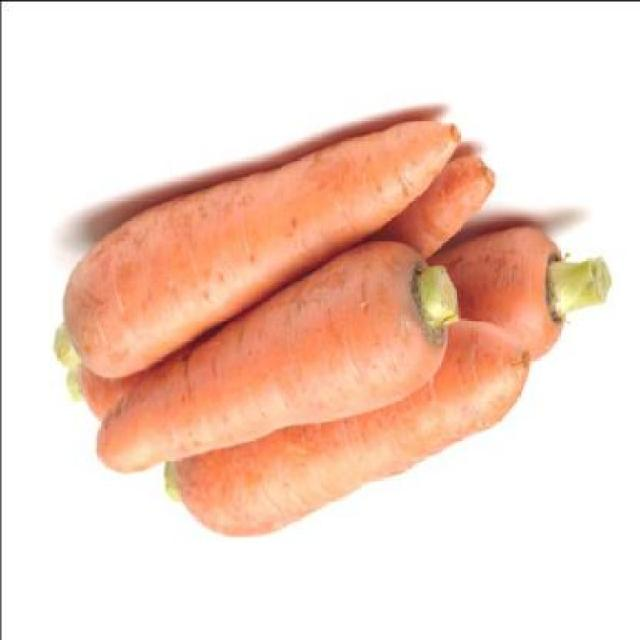carrot: (66, 154, 494, 423), (51, 112, 458, 374), (94, 238, 448, 474), (164, 315, 527, 537), (424, 225, 564, 362)
